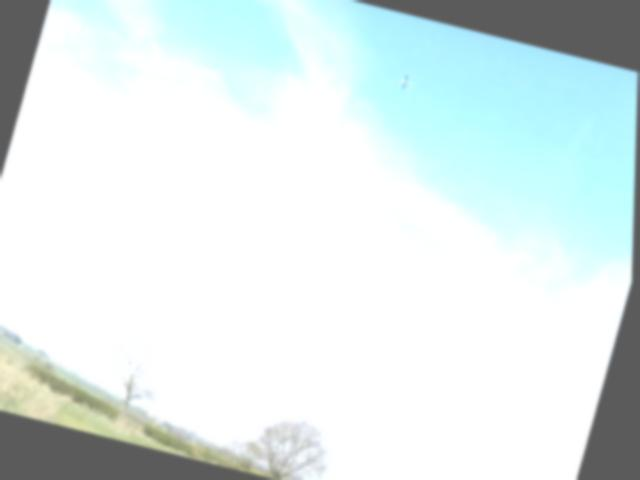iha: (389, 70, 420, 96)
